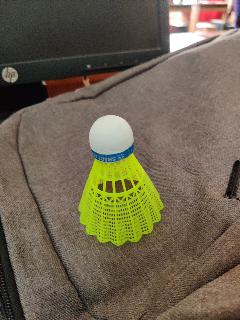shuttlecock: (76, 114, 164, 243)
